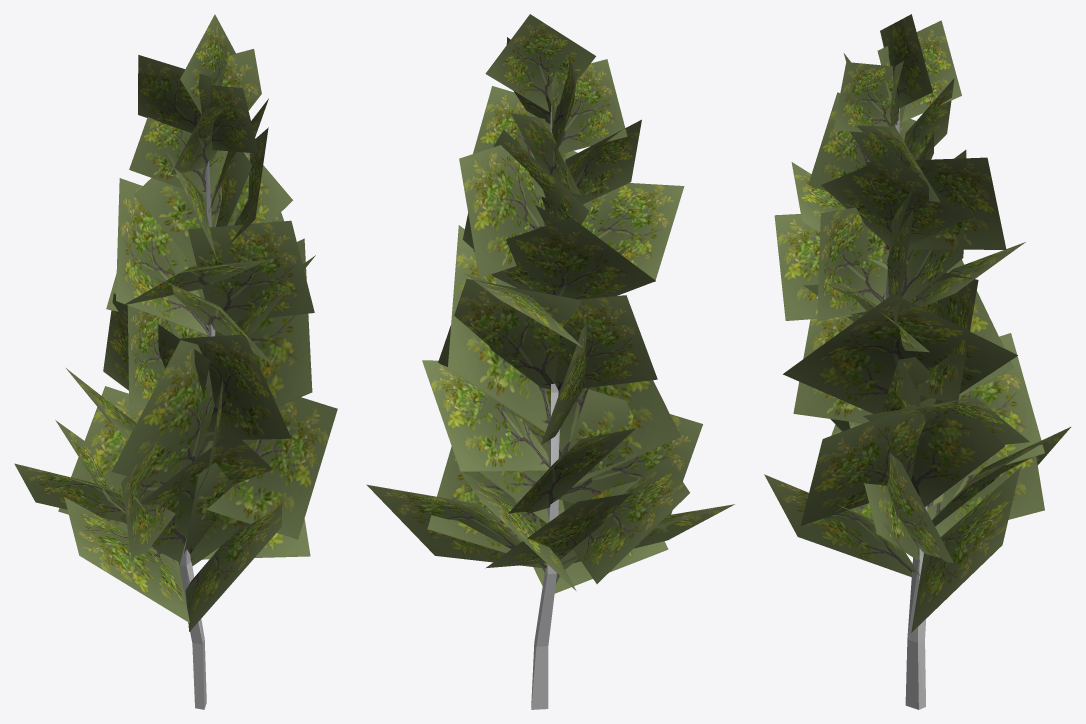
The model's file is JiaYeSiWai1_ShuLv_2.FBX.
3 views of the same model, side by side, from view 1: azimuth 30°, elevation 25°; view 2: azimuth 150°, elevation 25°; view 3: azimuth 270°, elevation 25° (orthographic).
Parts seen in each view (by area): view 1: JiaYeSiWai1_ShuLv_2a, JiaYeSiWai1_ShuLv_2b; view 2: JiaYeSiWai1_ShuLv_2a, JiaYeSiWai1_ShuLv_2b; view 3: JiaYeSiWai1_ShuLv_2a, JiaYeSiWai1_ShuLv_2b.
Boxes of the visible parts, left/top/right/bottom form: JiaYeSiWai1_ShuLv_2a: left=14, top=14, right=337, bottom=631; JiaYeSiWai1_ShuLv_2b: left=179, top=160, right=215, bottom=709; JiaYeSiWai1_ShuLv_2a: left=366, top=14, right=734, bottom=593; JiaYeSiWai1_ShuLv_2b: left=531, top=106, right=560, bottom=709; JiaYeSiWai1_ShuLv_2a: left=764, top=14, right=1070, bottom=632; JiaYeSiWai1_ShuLv_2b: left=885, top=108, right=927, bottom=709.
Size of the model in its own units: 629 by 1385 by 553.
